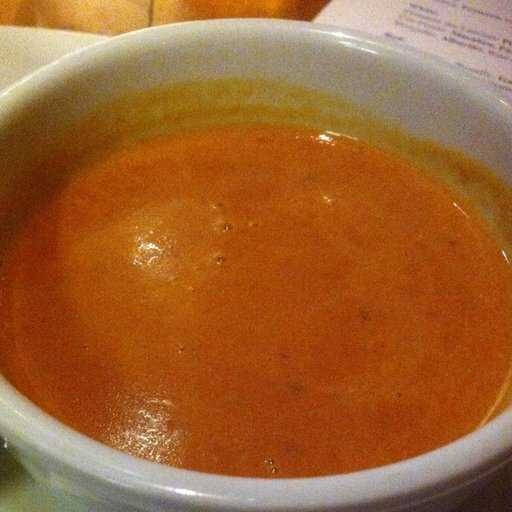soup: (1, 105, 500, 467)
